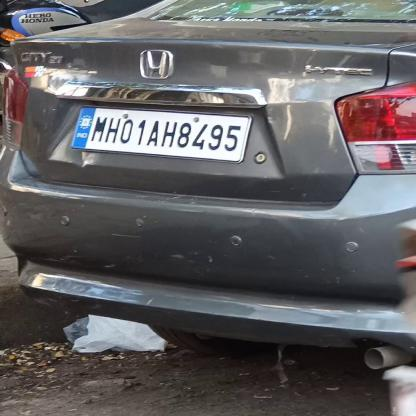license_plate: (71, 105, 250, 163)
